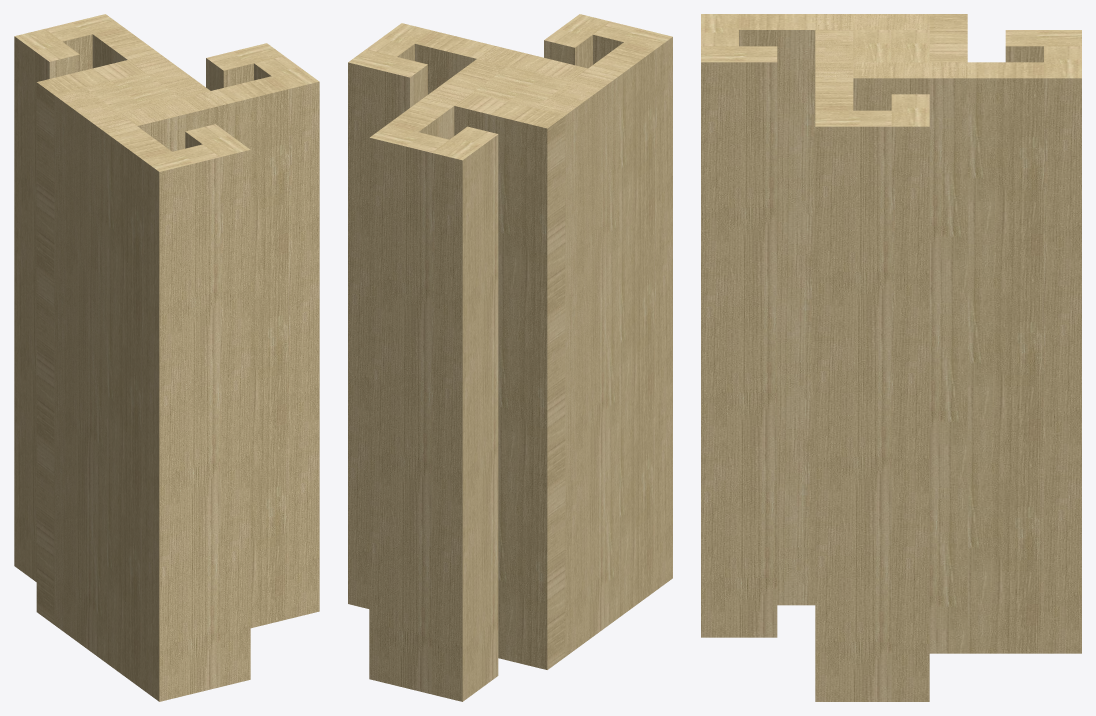
3 renders of one model, left to right at view 1: azimuth 30°, elevation 25°; view 2: azimuth 150°, elevation 25°; view 3: azimuth 270°, elevation 25°, orthographic. The views are drawn at different scales.
Parts seen in each view (by area): view 1: Geom3D (×17); view 2: Geom3D (×16); view 3: Geom3D (×15).
Boxes of the visible parts, x1,y1,x2,y2 form: Geom3D (×17): [14, 14, 319, 701]; Geom3D (×16): [348, 14, 672, 701]; Geom3D (×15): [701, 14, 1081, 701].
Size of the model in its own units: 0.126 by 0.3 by 0.18.
Materials: 1 (1 with a texture image).
